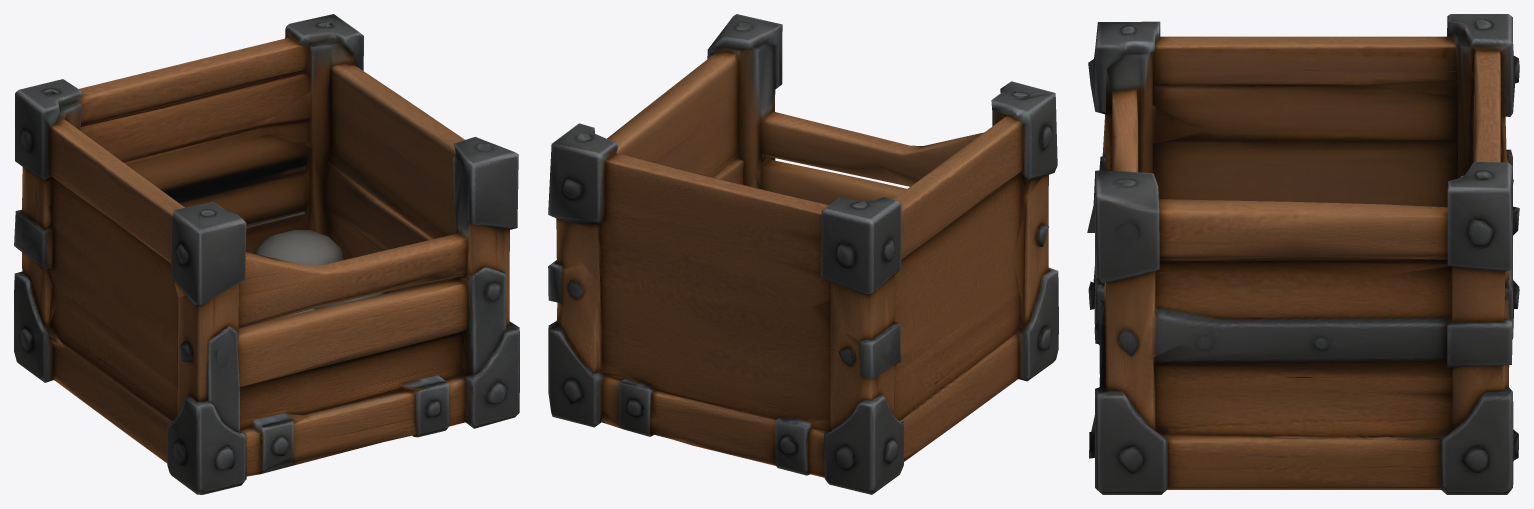
The model's file is stone storage few stones.glb.
3 views of the same model, side by side, from view 1: azimuth 30°, elevation 25°; view 2: azimuth 150°, elevation 25°; view 3: azimuth 270°, elevation 25° (orthographic). The views are drawn at different scales.
Parts seen in each view (by area): view 1: tripo_node_0013a638-15e1-49b5-9ebc-3bdee91c9c48; view 2: tripo_node_0013a638-15e1-49b5-9ebc-3bdee91c9c48; view 3: tripo_node_0013a638-15e1-49b5-9ebc-3bdee91c9c48.
Part boxes in pixels (x1,y1,x2,y2): tripo_node_0013a638-15e1-49b5-9ebc-3bdee91c9c48: [14, 14, 519, 494]; tripo_node_0013a638-15e1-49b5-9ebc-3bdee91c9c48: [548, 14, 1058, 494]; tripo_node_0013a638-15e1-49b5-9ebc-3bdee91c9c48: [1087, 14, 1519, 494].
Size of the model in its own units: 0.9995 by 0.7969 by 1.
1 material, 1 textured.
